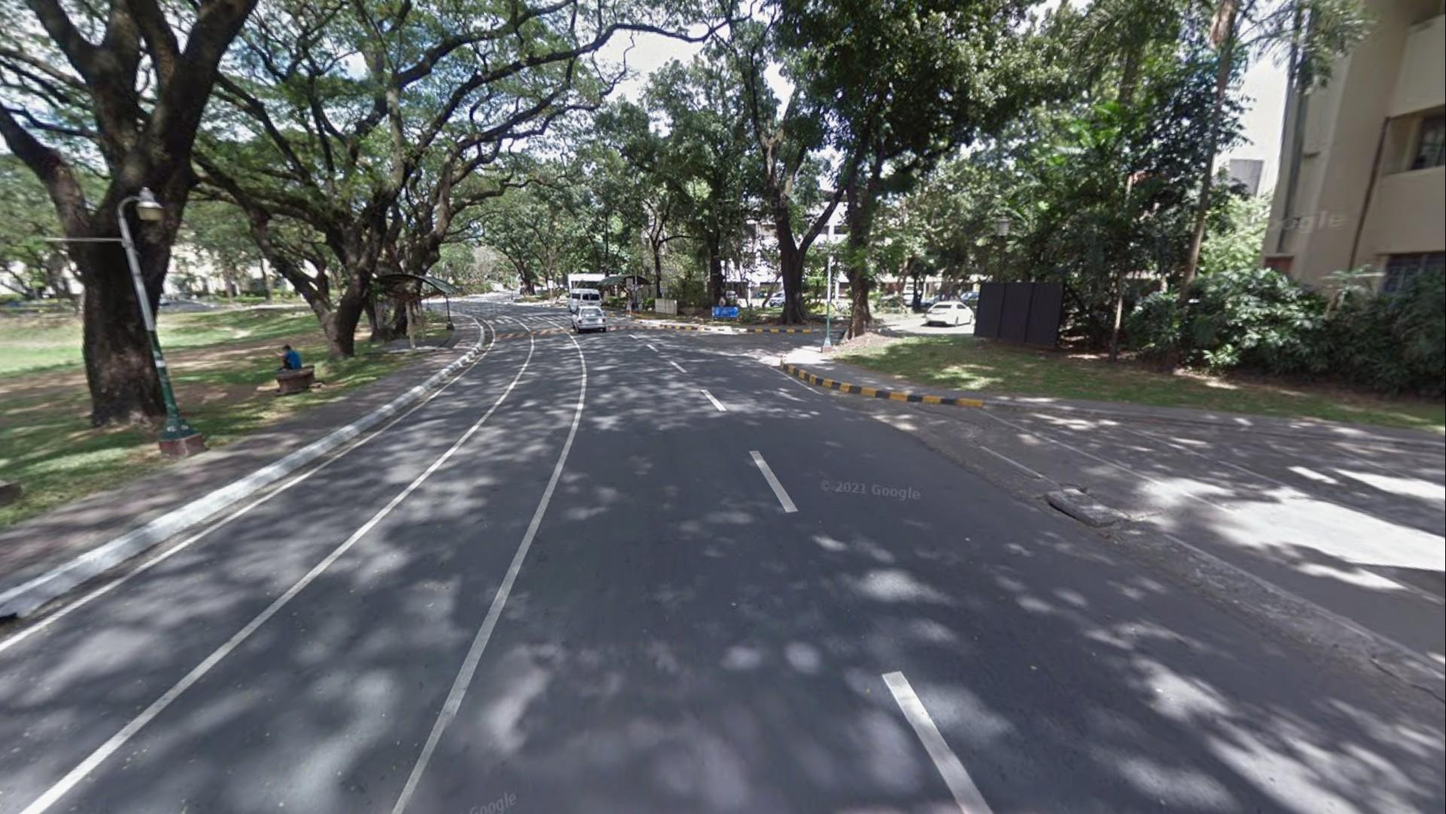pedestrian: (272, 343, 302, 373), (623, 295, 634, 318)
